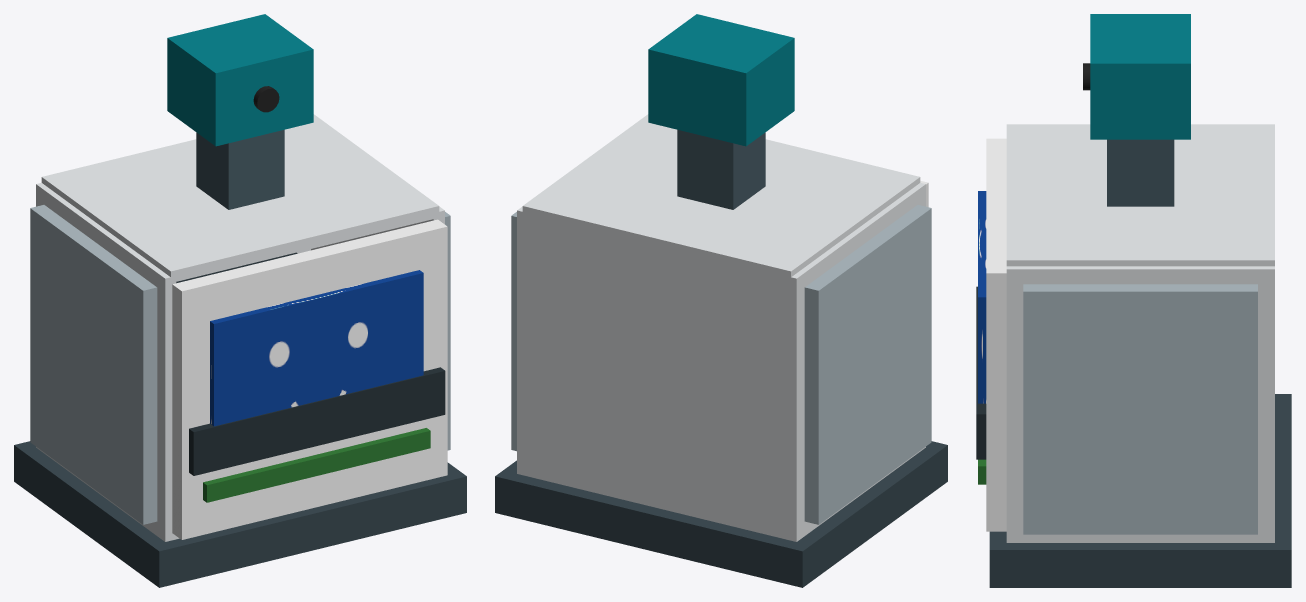
The model's file is robot_assembled.glb.
The picture shows the model from 3 angles, left to right: view 1: azimuth 30°, elevation 25°; view 2: azimuth 150°, elevation 25°; view 3: azimuth 270°, elevation 25°; orthographic projection. The views are drawn at different scales.
Parts seen in each view (by area): view 1: B02_外壳框架, B09_侧盖, B03_前面板, B04_显示模块, B01_桌面底座, B07_摄像头头舱, B08_双喇叭格栅, B06_颈部支架, B05_状态灯条; view 2: B02_外壳框架, B09_侧盖, B01_桌面底座, B07_摄像头头舱, B06_颈部支架; view 3: B09_侧盖, B02_外壳框架, B01_桌面底座, B07_摄像头头舱, B03_前面板, B06_颈部支架, B04_显示模块, B08_双喇叭格栅.
Part boxes in pixels (x1,y1,x2,y2): B02_外壳框架: [36, 114, 444, 541]; B09_侧盖: [30, 205, 450, 524]; B03_前面板: [172, 219, 447, 539]; B04_显示模块: [210, 270, 423, 426]; B01_桌面底座: [14, 441, 466, 587]; B07_摄像头头舱: [167, 14, 313, 146]; B08_双喇叭格栅: [189, 367, 445, 475]; B06_颈部支架: [196, 129, 284, 209]; B05_状态灯条: [203, 428, 430, 502]; B02_外壳框架: [517, 114, 925, 541]; B09_侧盖: [511, 205, 931, 524]; B01_桌面底座: [495, 441, 947, 587]; B07_摄像头头舱: [648, 14, 794, 146]; B06_颈部支架: [677, 129, 765, 209]; B09_侧盖: [1023, 284, 1257, 534]; B02_外壳框架: [1006, 124, 1274, 542]; B01_桌面底座: [989, 394, 1291, 587]; B07_摄像头头舱: [1083, 14, 1190, 139]; B03_前面板: [986, 138, 1006, 531]; B06_颈部支架: [1107, 139, 1174, 206]; B04_显示模块: [978, 191, 986, 403]; B08_双喇叭格栅: [976, 286, 986, 459].
Size of the model in its own units: 0.22 by 0.31 by 0.188.
Materials: 16 (1 with a texture image).
